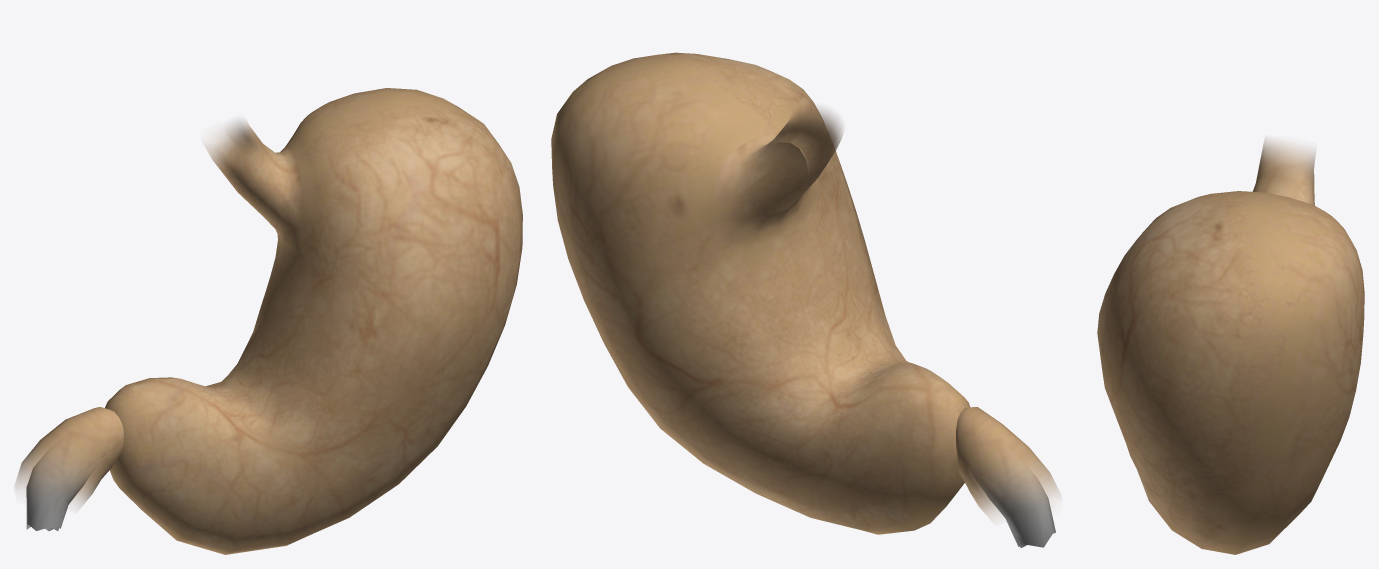
File: FBX_Estomago3.fbx
3 renders of one model, left to right at view 1: azimuth 30°, elevation 25°; view 2: azimuth 150°, elevation 25°; view 3: azimuth 270°, elevation 25°, orthographic. The views are drawn at different scales.
Parts seen in each view (by area): view 1: Cuerpo, Salida, Entrada, liquido_A; view 2: Cuerpo, Entrada, Salida, liquido_A; view 3: Cuerpo, Entrada.
Part boxes in pixels (left/top/right/bottom): Cuerpo: left=105, top=88, right=522, bottom=554; Salida: left=14, top=407, right=123, bottom=507; Entrada: left=204, top=120, right=291, bottom=231; liquido_A: left=26, top=448, right=93, bottom=531; Cuerpo: left=551, top=52, right=970, bottom=534; Entrada: left=732, top=108, right=843, bottom=222; Salida: left=956, top=407, right=1060, bottom=519; liquido_A: left=977, top=457, right=1055, bottom=547; Cuerpo: left=1097, top=191, right=1364, bottom=554; Entrada: left=1253, top=139, right=1315, bottom=205.
Size of the model in its own units: 12.93 by 13.11 by 6.38.
